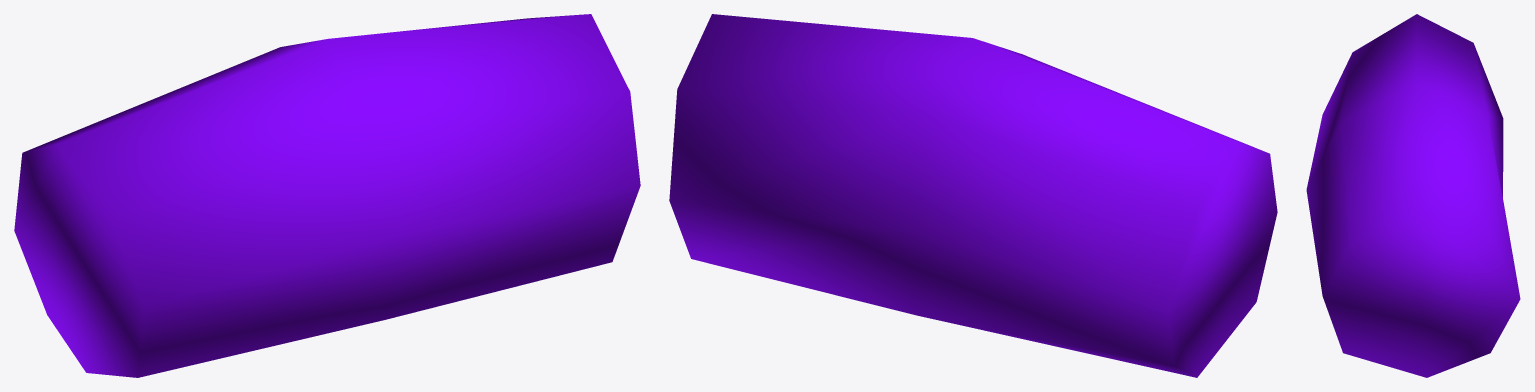
Rendered from CommonPeople2_sportsBag_1_onGround_meshCollider.fbx.
3 renders of one model, left to right at view 1: azimuth 30°, elevation 25°; view 2: azimuth 150°, elevation 25°; view 3: azimuth 270°, elevation 25°, orthographic. The views are drawn at different scales.
Visible parts, largest first — view 1: CommonPeople2_sportsBag_1_onGround_meshCollider; view 2: CommonPeople2_sportsBag_1_onGround_meshCollider; view 3: CommonPeople2_sportsBag_1_onGround_meshCollider.
Boxes of the visible parts, x1,y1,x2,y2 form: CommonPeople2_sportsBag_1_onGround_meshCollider: (14, 14, 640, 377); CommonPeople2_sportsBag_1_onGround_meshCollider: (669, 14, 1277, 377); CommonPeople2_sportsBag_1_onGround_meshCollider: (1306, 14, 1520, 377).
Bounding box in the file's own units: 32.18 × 16.23 × 14.89.
